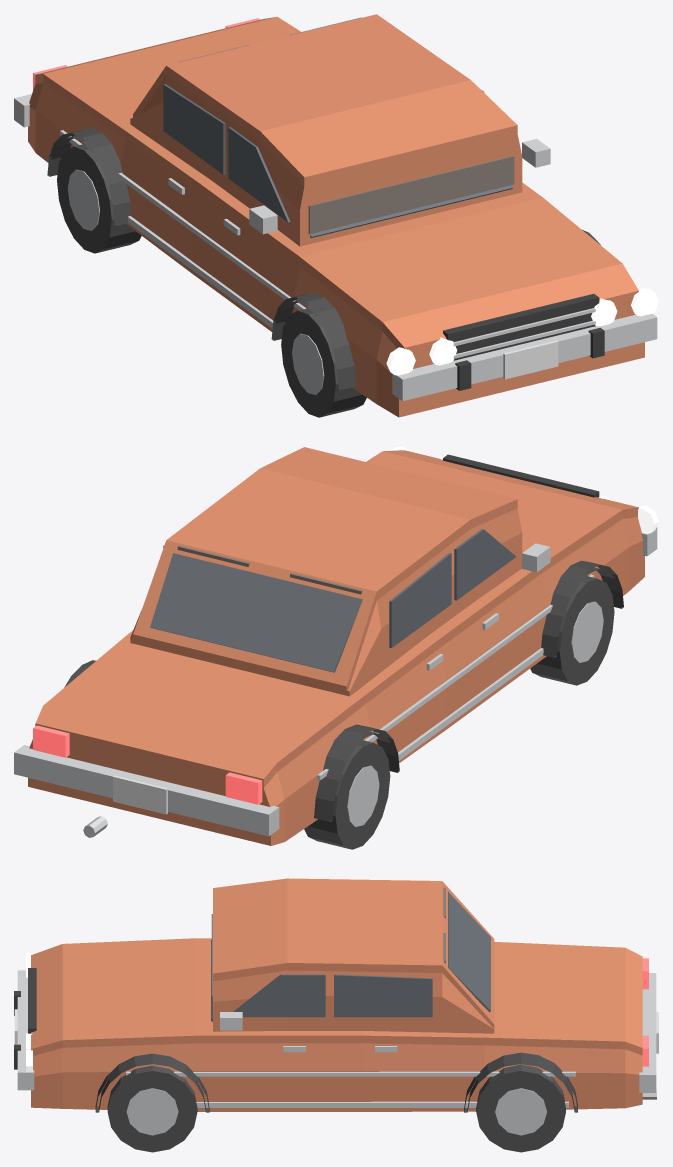
The model's file is lowpoly_car.glb.
3 views of the same model, one above another, from view 1: azimuth 30°, elevation 25°; view 2: azimuth 150°, elevation 25°; view 3: azimuth 270°, elevation 25° (orthographic). The views are drawn at different scales.
Parts seen in each view (by area): view 1: Body, Cabin, Dashboard, Bumper_Front, Wheel_FR, Grille, Wheel_RR, Glass_Side_RR, WheelArch_RR, WheelArch_FR, Glass_Side_FR, Trim_Side_R (+12 smaller); view 2: Body, Cabin, Glass_Rear, Bumper_Rear, Wheel_RR, Wheel_FR, Glass_Side_RR, WheelArch_RR, Glass_Side_FR, WheelArch_FR, Trim_Side_R, Plate_Rear (+7 smaller); view 3: Body, Cabin, Wheel_RL, Wheel_FL, Glass_Side_RL, Glass_Rear, Glass_Side_FL, Hub_FL, Hub_RL, Sill_L, Trim_Side_L, Bumper_Rear (+5 smaller).
Part boxes in pixels (<box>): Body: <box>28,16,644,417</box>; Cabin: <box>130,14,522,246</box>; Dashboard: <box>308,156,514,234</box>; Bumper_Front: <box>392,313,657,401</box>; Wheel_FR: <box>281,308,366,417</box>; Grille: <box>443,293,599,360</box>; Wheel_RR: <box>57,144,141,253</box>; Glass_Side_RR: <box>163,84,225,174</box>; WheelArch_RR: <box>47,128,131,225</box>; WheelArch_FR: <box>271,293,355,389</box>; Glass_Side_FR: <box>228,127,290,222</box>; Trim_Side_R: <box>60,130,306,310</box>; Body: <box>28,450,644,845</box>; Cabin: <box>130,447,522,696</box>; Glass_Rear: <box>150,553,362,672</box>; Bumper_Rear: <box>14,745,279,836</box>; Wheel_RR: <box>304,740,390,849</box>; Wheel_FR: <box>530,576,614,685</box>; Glass_Side_RR: <box>389,552,451,647</box>; WheelArch_RR: <box>314,724,399,821</box>; Glass_Side_FR: <box>454,529,516,600</box>; WheelArch_FR: <box>541,560,623,657</box>; Trim_Side_R: <box>317,574,594,780</box>; Plate_Rear: <box>113,775,167,814</box>; Body: <box>31,938,642,1111</box>; Cabin: <box>213,878,494,1033</box>; Wheel_RL: <box>476,1064,565,1152</box>; Wheel_FL: <box>107,1065,197,1152</box>; Glass_Side_RL: <box>334,974,432,1017</box>; Glass_Rear: <box>448,892,490,1011</box>; Glass_Side_FL: <box>233,974,325,1017</box>; Hub_FL: <box>126,1088,178,1135</box>; Hub_RL: <box>495,1088,546,1135</box>; Sill_L: <box>196,1101,568,1107</box>; Trim_Side_L: <box>126,1071,575,1076</box>; Bumper_Rear: <box>639,973,656,1092</box>.
Bounding box in the file's own units: 1.94 × 1.38 × 4.58.
